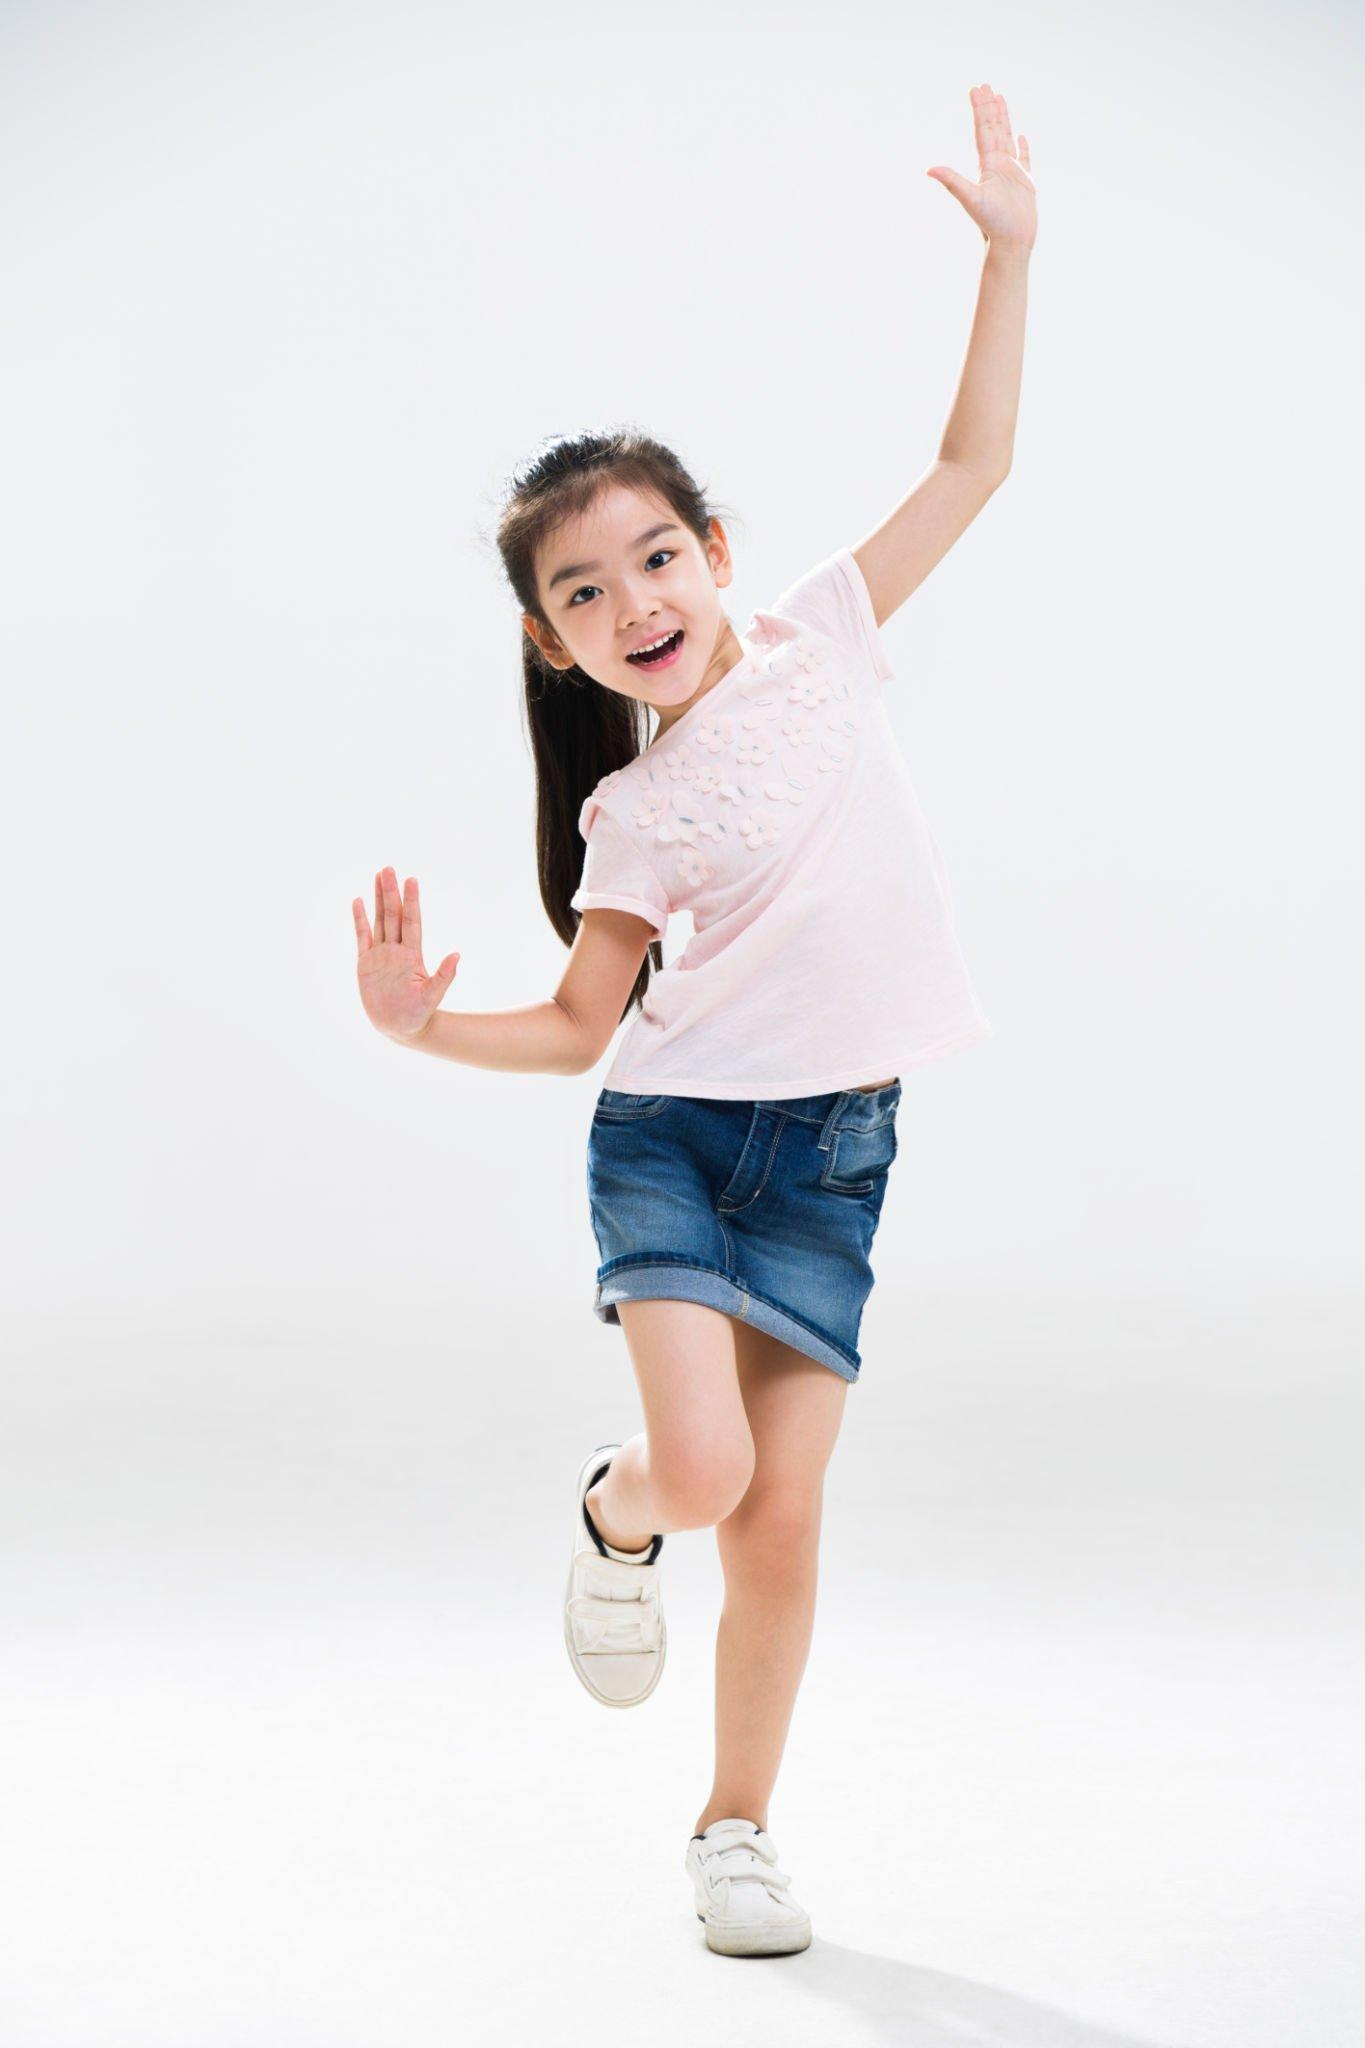Healthy: (463, 455, 792, 719)
